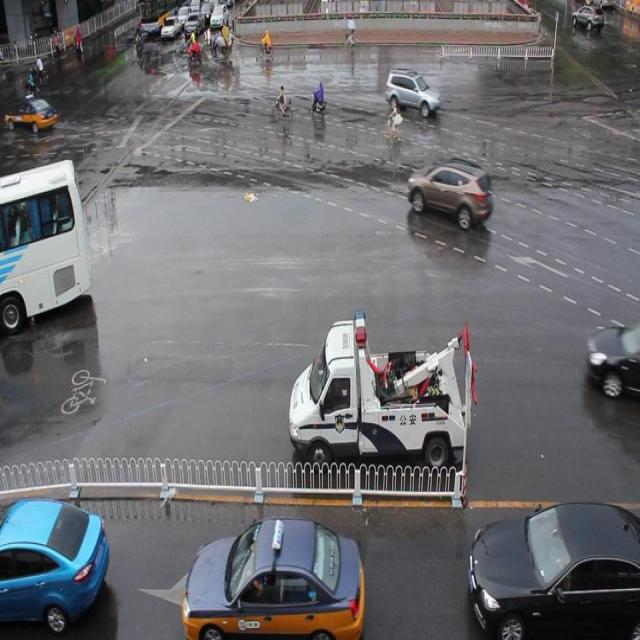bus: (288, 308, 476, 473)
car: (467, 499, 640, 640), (180, 516, 364, 640), (0, 496, 110, 640), (406, 153, 491, 227), (583, 325, 640, 398), (384, 67, 441, 118)
van: (1, 160, 92, 338)
